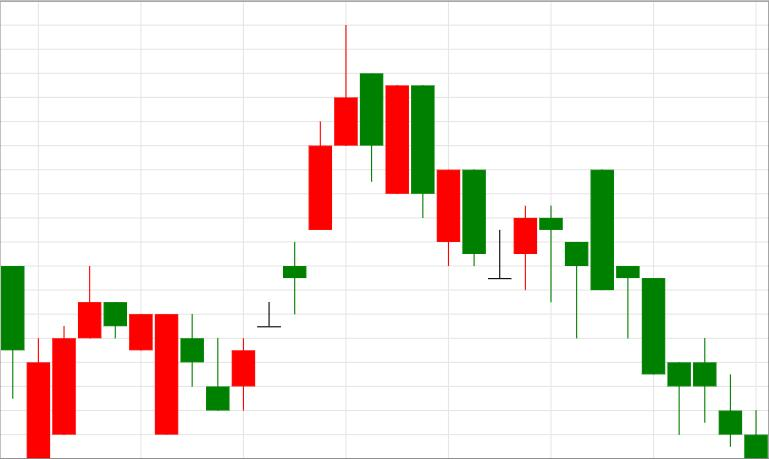hammer_rise: (539, 169, 690, 436)
inverse_hammer_rise: (538, 168, 741, 447)
shooting_star_fall: (232, 25, 358, 411)
